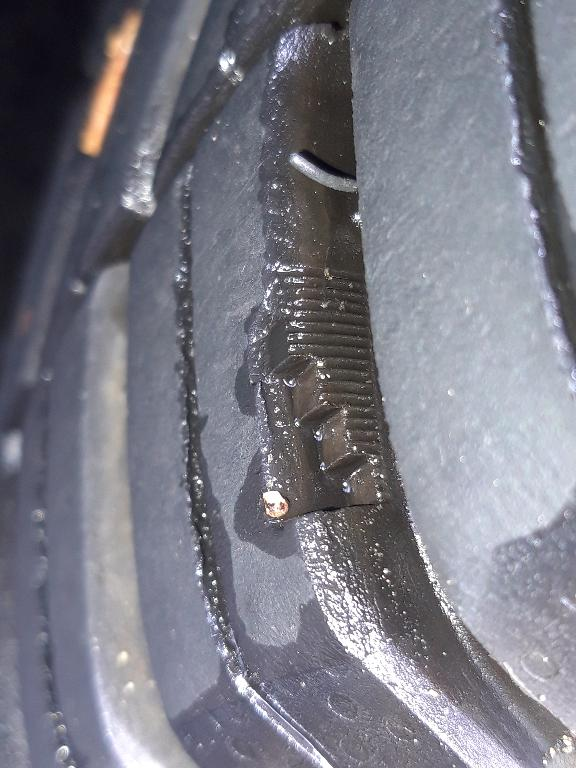temoin:80: (242, 268, 402, 530)
